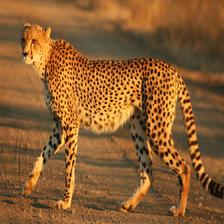Cheetah: (20, 23, 224, 218)
